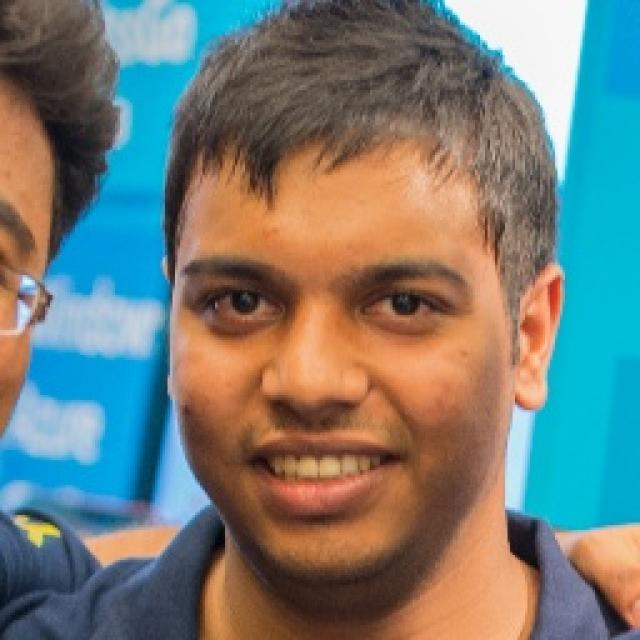earlobe: (515, 358, 550, 411)
eye: (206, 289, 280, 321), (368, 293, 444, 324)
nose: (268, 397, 366, 433)
wholeear: (516, 260, 565, 410)
